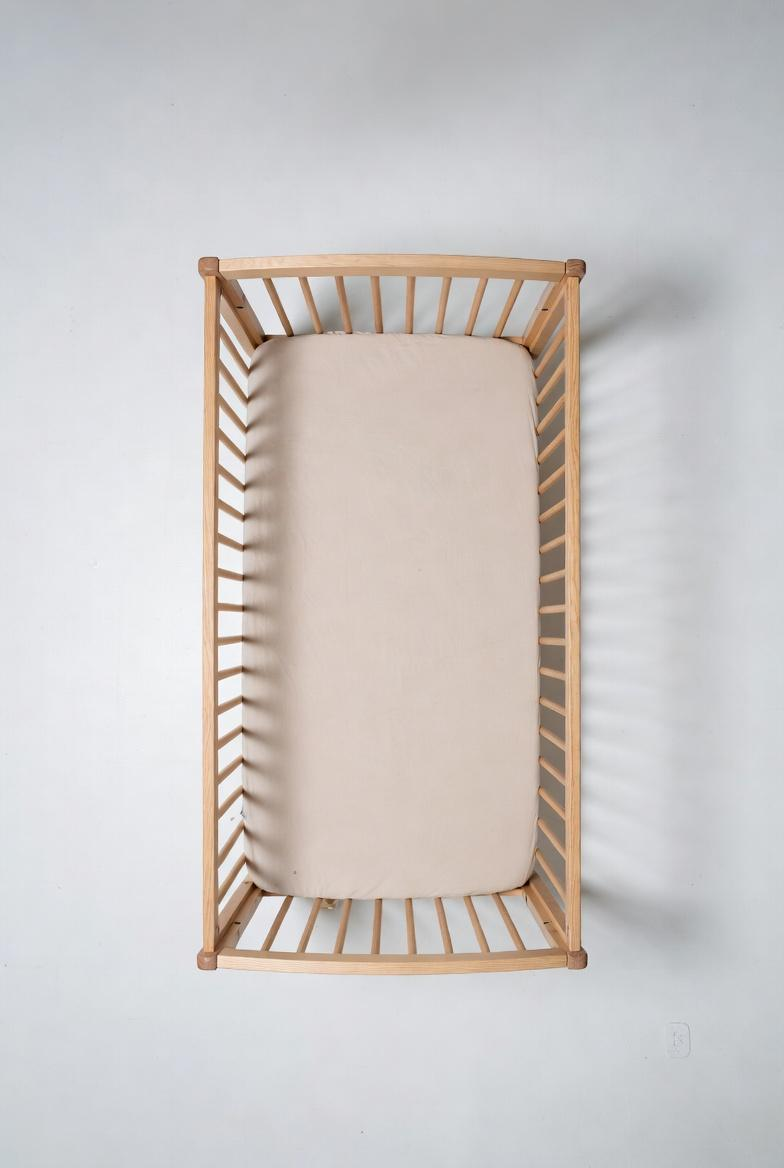crib: (198, 255, 586, 974)
